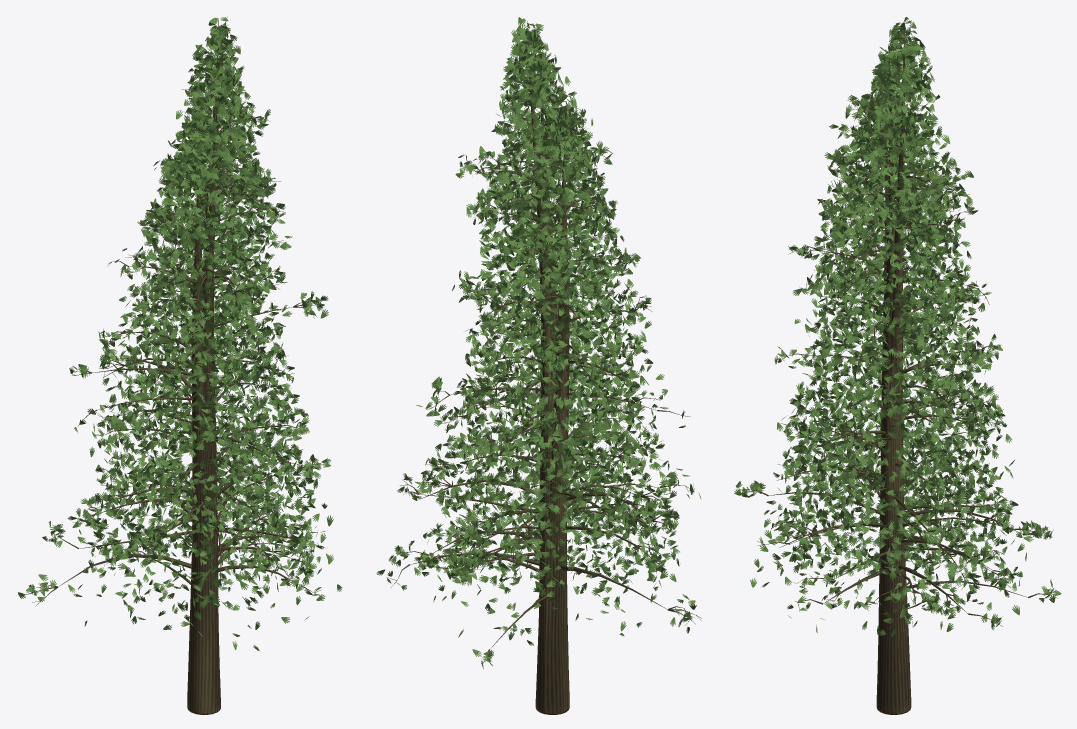
Rendered from trees-v014-metasequoia.glb.
The picture shows the model from 3 angles, left to right: view 1: azimuth 30°, elevation 25°; view 2: azimuth 150°, elevation 25°; view 3: azimuth 270°, elevation 25°; orthographic projection. The views are drawn at different scales.
Parts seen in each view (by area): view 1: tree_metasequoia_0_foliage_leaf, tree_metasequoia_1_foliage_leaf, tree_metasequoia_2_foliage_leaf, tree_metasequoia_1_bark, tree_metasequoia_0_bark, tree_metasequoia_2_bark; view 2: tree_metasequoia_2_foliage_leaf, tree_metasequoia_1_foliage_leaf, tree_metasequoia_0_foliage_leaf, tree_metasequoia_1_bark, tree_metasequoia_2_bark, tree_metasequoia_0_bark; view 3: tree_metasequoia_2_foliage_leaf, tree_metasequoia_0_foliage_leaf, tree_metasequoia_1_foliage_leaf, tree_metasequoia_1_bark, tree_metasequoia_2_bark, tree_metasequoia_0_bark.
Part boxes in pixels (x1=…): tree_metasequoia_0_foliage_leaf: x1=42, y1=57, x2=333, y2=608; tree_metasequoia_1_foliage_leaf: x1=18, y1=117, x2=342, y2=650; tree_metasequoia_2_foliage_leaf: x1=76, y1=17, x2=321, y2=604; tree_metasequoia_1_bark: x1=21, y1=117, x2=321, y2=714; tree_metasequoia_0_bark: x1=51, y1=59, x2=323, y2=619; tree_metasequoia_2_bark: x1=83, y1=18, x2=313, y2=572; tree_metasequoia_2_foliage_leaf: x1=388, y1=17, x2=667, y2=589; tree_metasequoia_1_foliage_leaf: x1=376, y1=102, x2=696, y2=668; tree_metasequoia_0_foliage_leaf: x1=415, y1=42, x2=701, y2=602; tree_metasequoia_1_bark: x1=386, y1=106, x2=701, y2=714; tree_metasequoia_2_bark: x1=395, y1=21, x2=650, y2=581; tree_metasequoia_0_bark: x1=418, y1=51, x2=689, y2=628; tree_metasequoia_2_foliage_leaf: x1=774, y1=17, x2=1041, y2=597; tree_metasequoia_0_foliage_leaf: x1=734, y1=47, x2=1018, y2=609; tree_metasequoia_1_foliage_leaf: x1=750, y1=92, x2=1061, y2=637; tree_metasequoia_1_bark: x1=795, y1=122, x2=1057, y2=714; tree_metasequoia_2_bark: x1=777, y1=19, x2=1035, y2=591; tree_metasequoia_0_bark: x1=740, y1=57, x2=1011, y2=632.
Bounding box in the file's own units: 18.67 × 40.27 × 17.27.
Materials: 2 (2 with a texture image).
